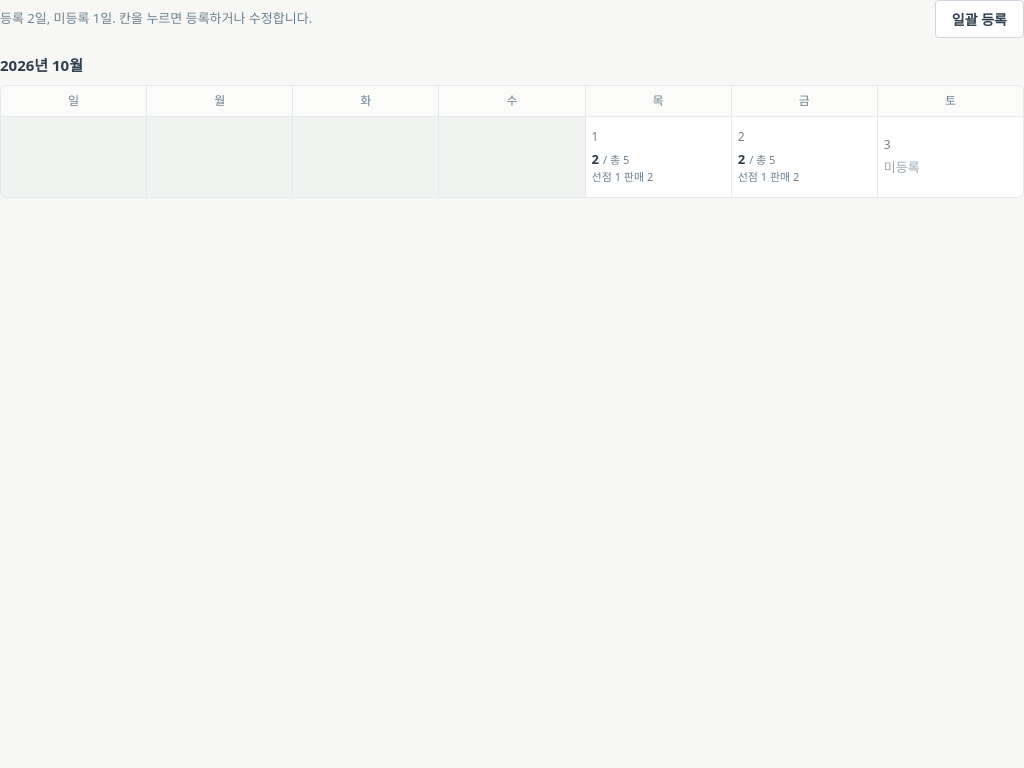
Test: H4 재고 달력 › 있는 칸은 INV-05를 읽고 최소 재고(선점 더하기 판매)가 먼저 막는다. 그 뒤 INV-03은 version과 totalCount
Click the button with aria-label "2026-10-01" at (658, 156), box 586,116 -> 731,196
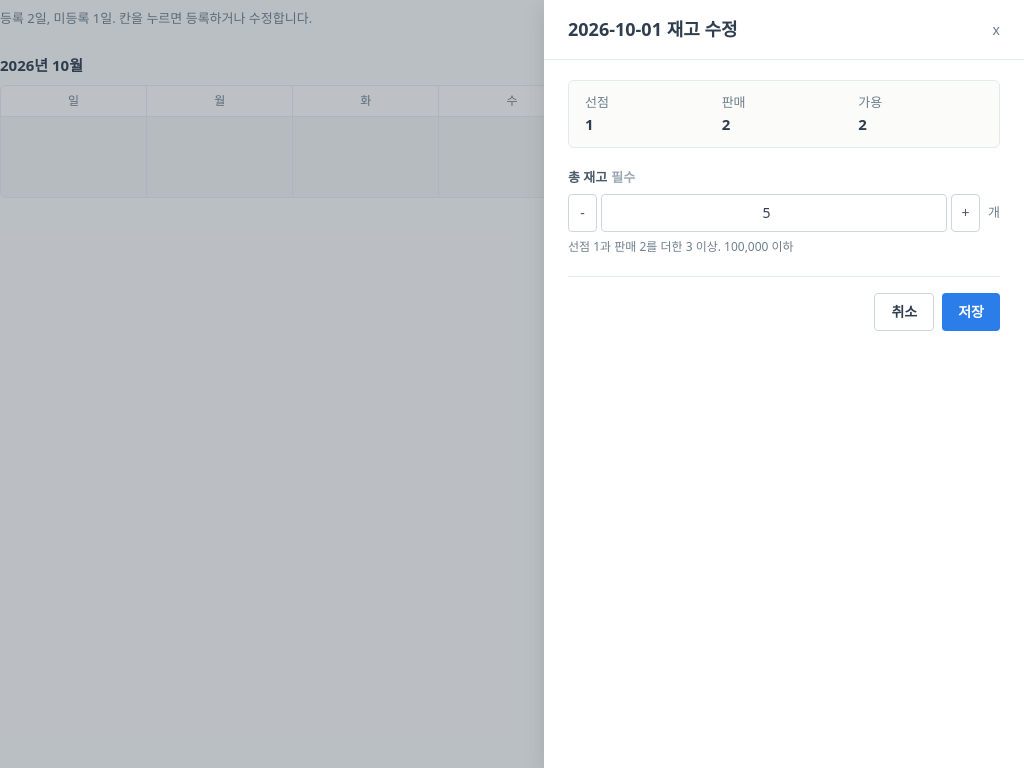
Now the dialog "2026-10-01 재고 수정" is shown, box 544,0 -> 1023,767
Now the number field labelled "총 재고" holds "5"
Replace the text in the number field labelled "총 재고" with "2" at (774, 212), box 601,194 -> 947,232
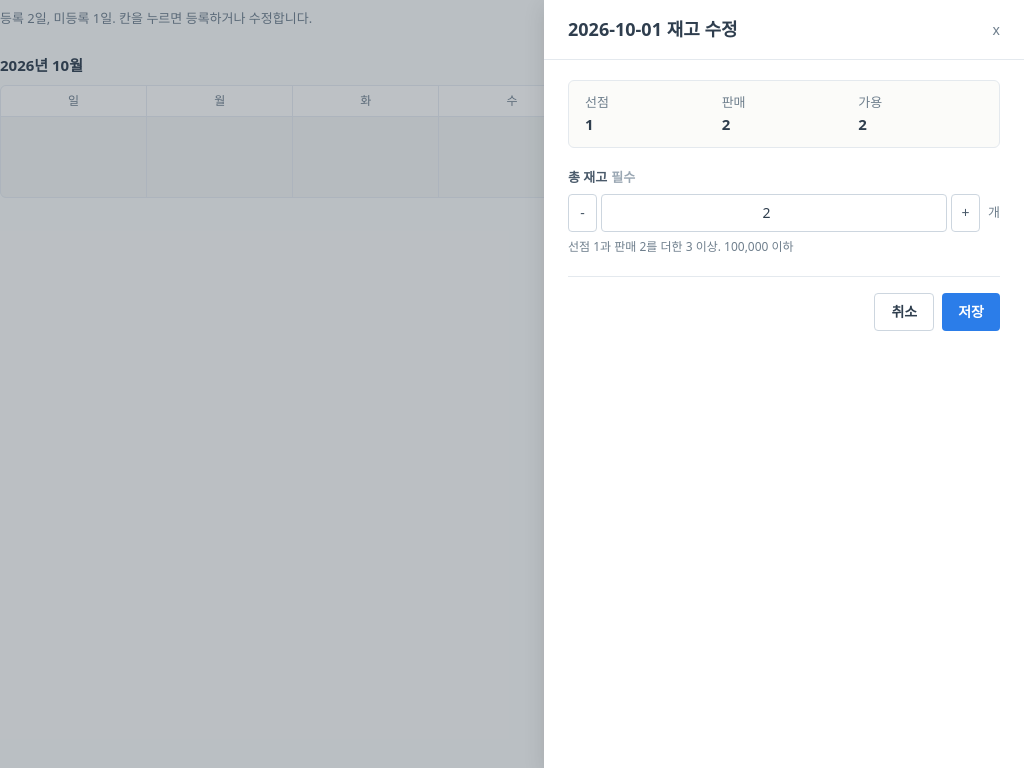
Click the button "저장" at (971, 312), box 942,292 -> 1000,330
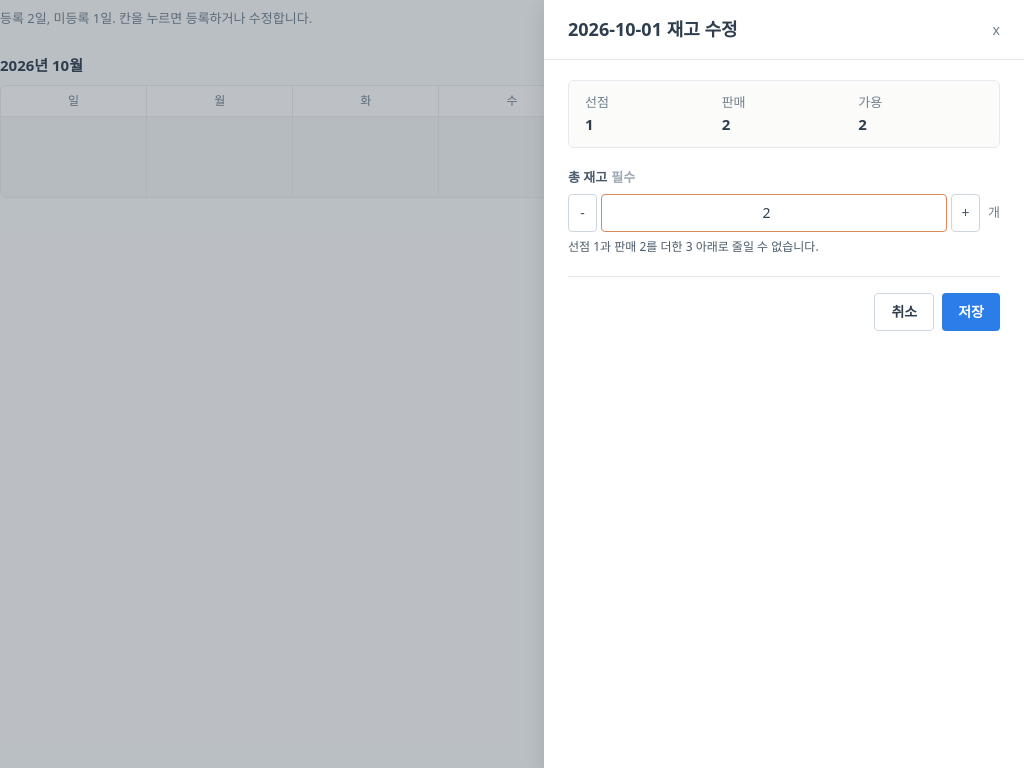
Now the text "선점 1과 판매 2를 더한 3 아래로 줄일 수 없습니다." is shown, box 568,238 -> 819,254
Replace the text in the number field labelled "총 재고" with "4" at (774, 212), box 601,194 -> 947,232
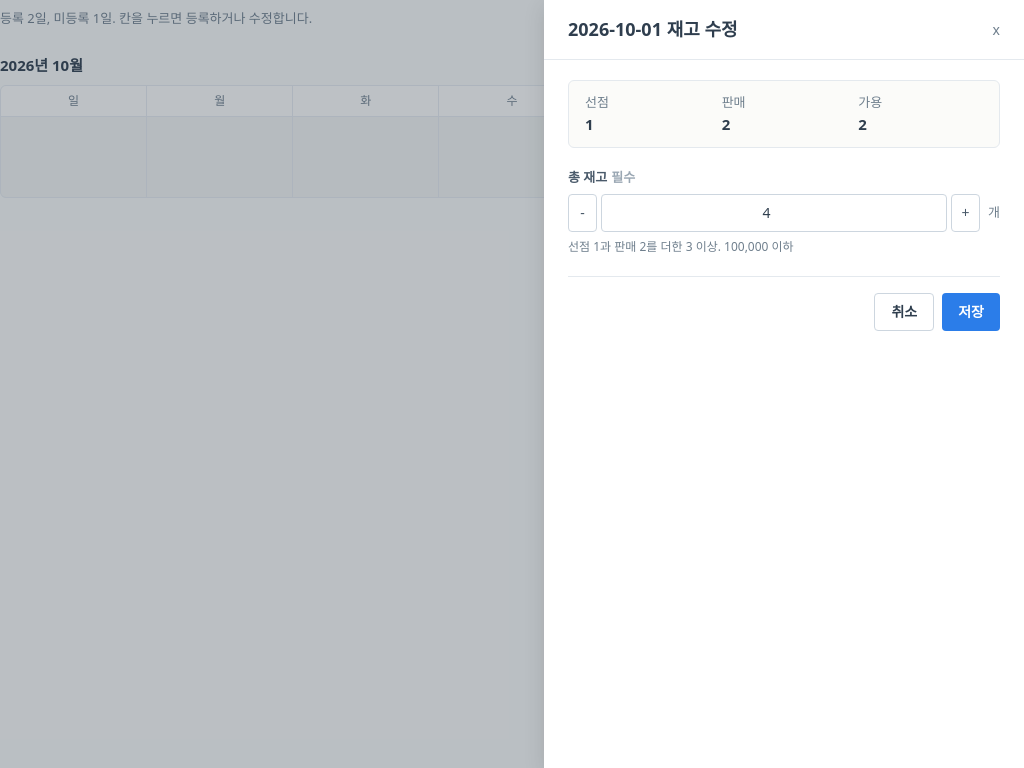
Click the button "저장" at (971, 312), box 942,292 -> 1000,330
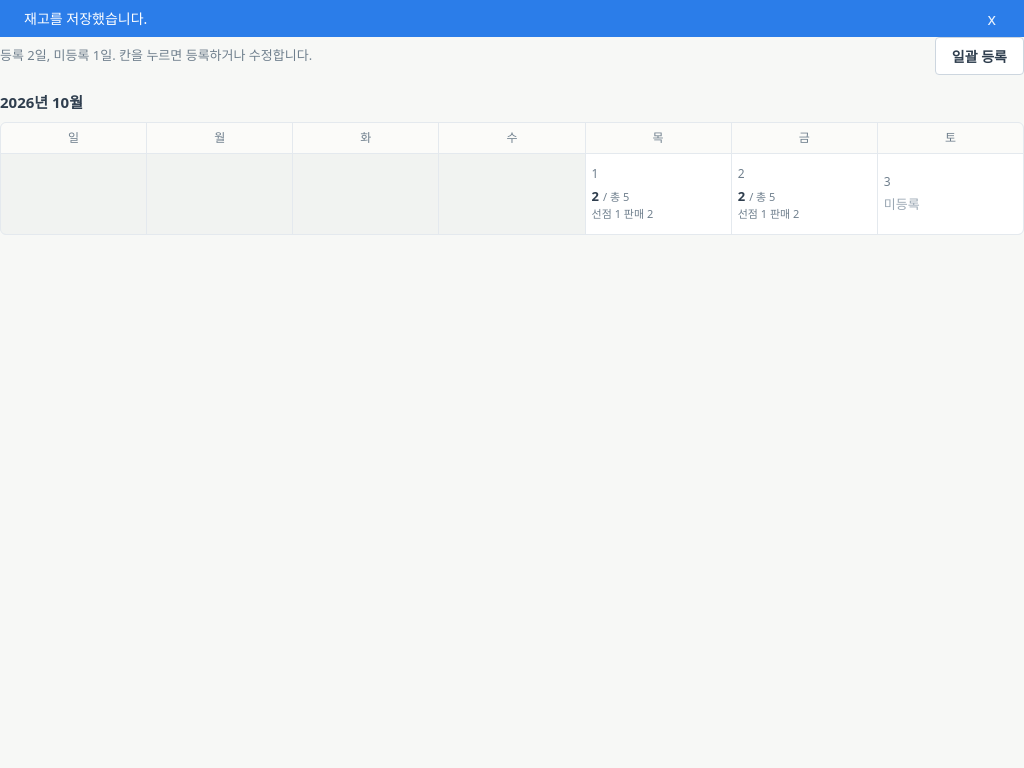
Now the text "재고를 저장했습니다." is shown, box 24,9 -> 147,28
